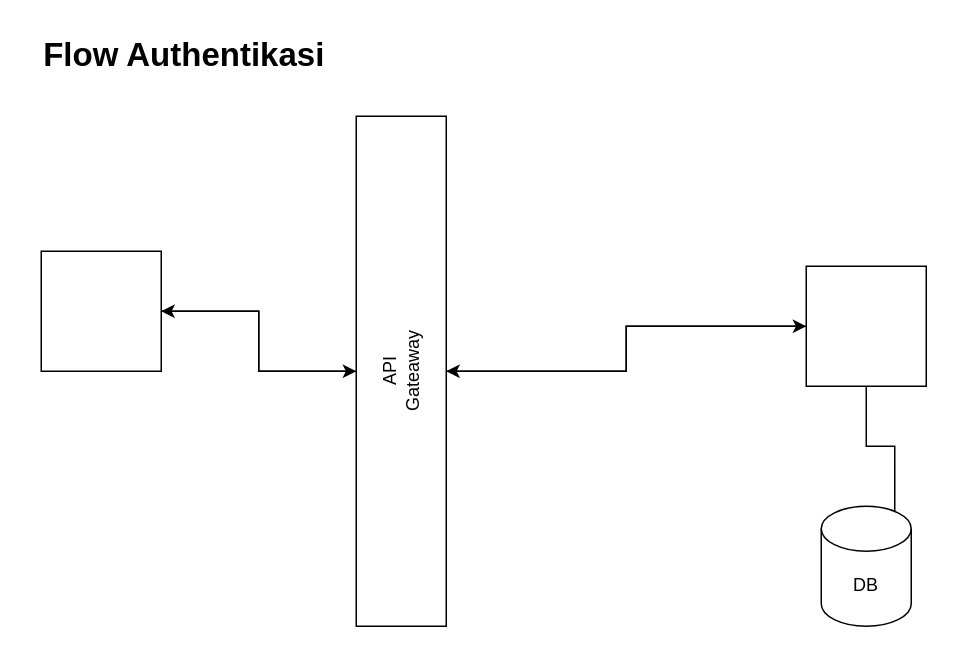
The diagram is 953 pixels wide and 653 high, and some of its shapes have lost their labels. The centre of each missing label's shape, as x and y in pixels:
"Client" belongs at pixel 100 310.
"Service User" belongs at pixel 865 325.
